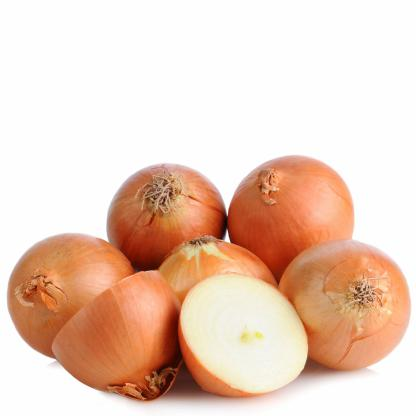onion: (54, 263, 178, 404), (8, 229, 135, 359), (280, 244, 406, 372), (179, 276, 310, 398), (222, 153, 355, 272), (106, 165, 227, 260), (156, 237, 279, 308)
